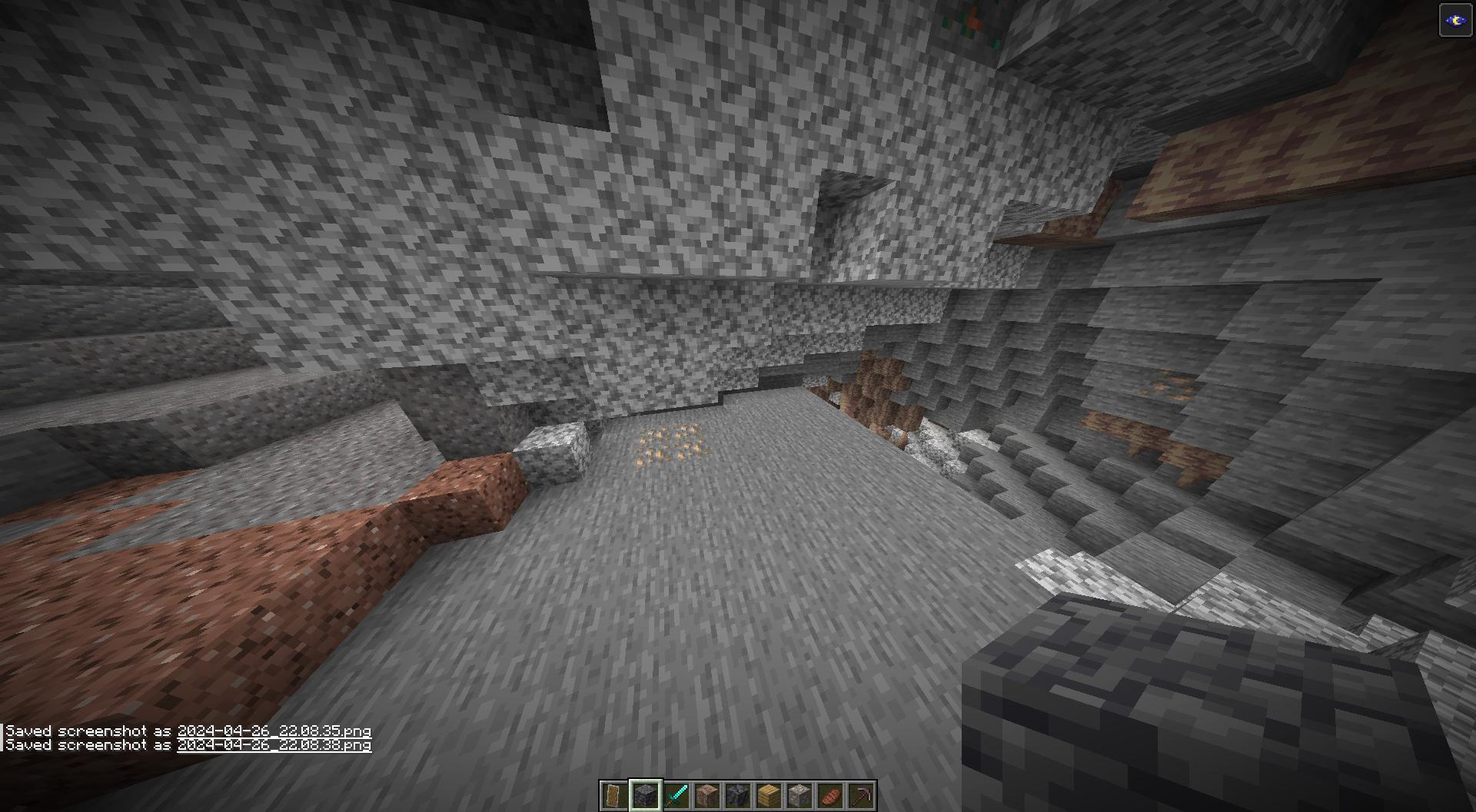iron ore: (639, 423, 700, 463)
